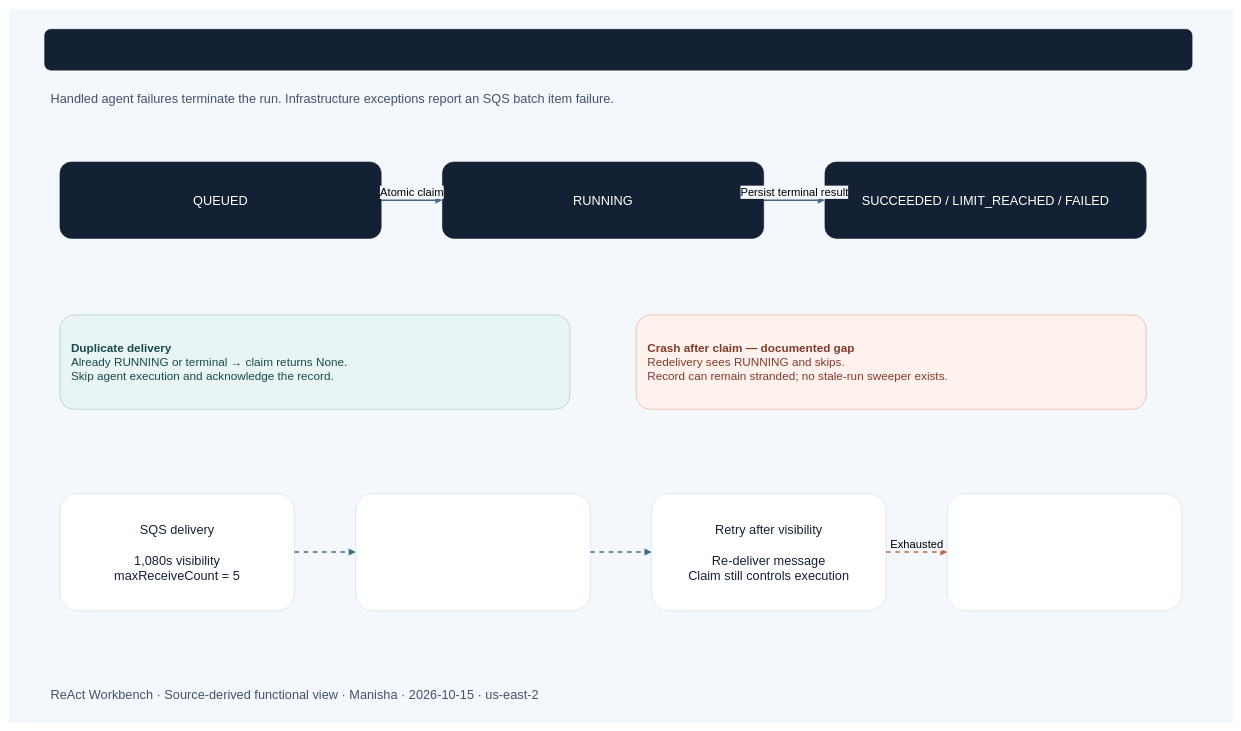
Some shapes in this 1241 by 731 pixel diagram are drawn without their labels. The centre of each missing label's shape, as x and y in pixels:
"Application outcomes and queue retries are different mechanisms" goes at (618,49).
"Infrastructure exception Worker returns messageId in batchItemFailures" goes at (472,552).
"SQS dead-letter queue 14-day retention Depth alarm; manual investigation" goes at (1064,552).
